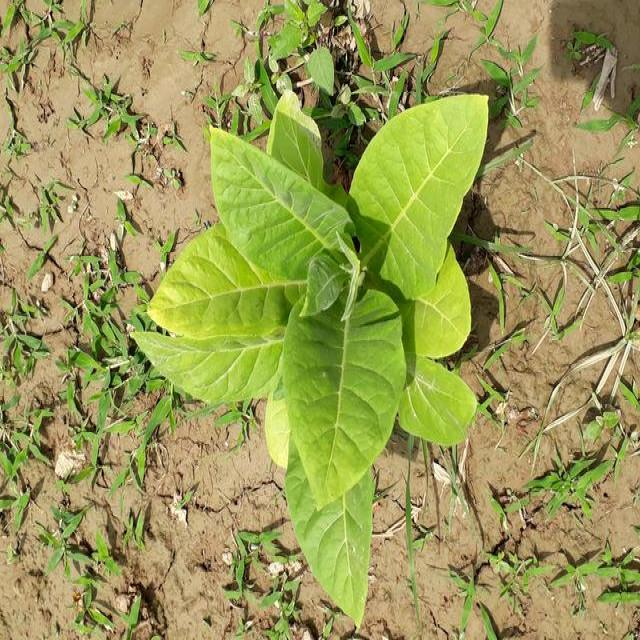crop: (158, 96, 488, 598)
